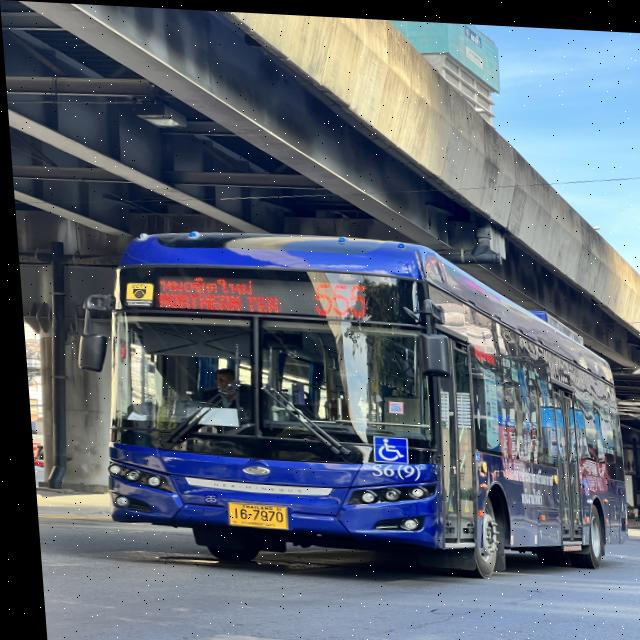Bus Line Number: (297, 269, 376, 319)
Bus Side Number: (356, 454, 416, 480)
Destination Sign: (148, 268, 284, 319)
TSB-Bus: (100, 231, 616, 572)
